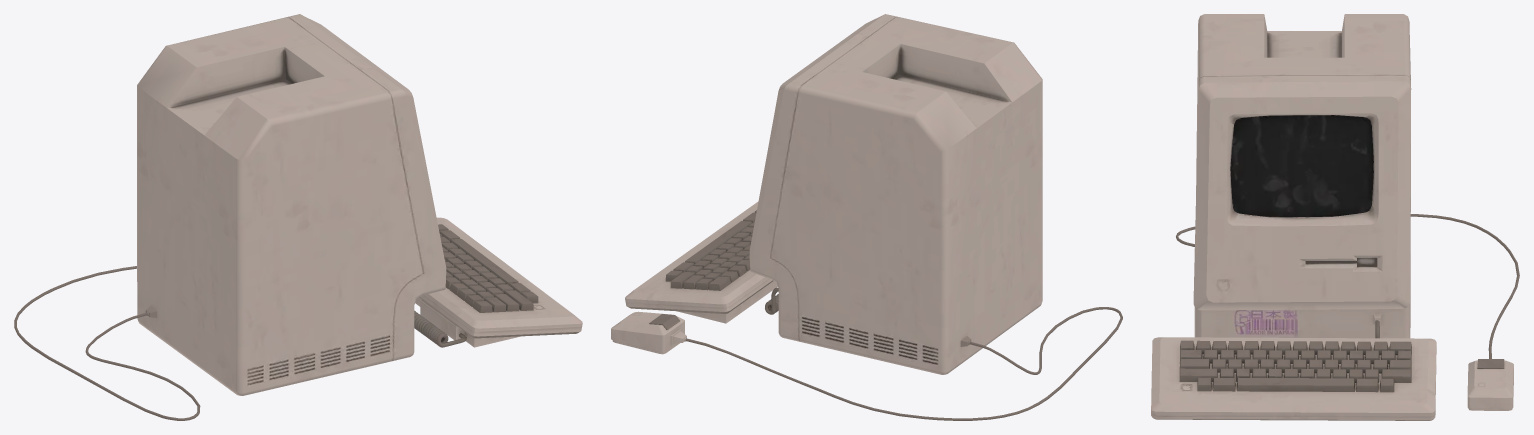
The model's file is macintosh-transformed.glb.
The picture shows the model from 3 angles, left to right: view 1: azimuth 30°, elevation 25°; view 2: azimuth 150°, elevation 25°; view 3: azimuth 270°, elevation 25°; orthographic projection. The views are drawn at different scales.
Parts seen in each view (by area): view 1: one_lp, too_lp, tre_lp; view 2: one_lp, too_lp, tre_lp; view 3: one_lp, too_lp, tre_lp.
Part boxes in pixels (bbox=[...]): one_lp: bbox=[137, 14, 582, 395]; too_lp: bbox=[415, 224, 538, 347]; tre_lp: bbox=[14, 266, 466, 420]; one_lp: bbox=[611, 14, 1042, 374]; too_lp: bbox=[612, 210, 777, 354]; tre_lp: bbox=[685, 287, 1122, 420]; one_lp: bbox=[1151, 14, 1513, 420]; too_lp: bbox=[1179, 340, 1512, 410]; tre_lp: bbox=[1176, 214, 1519, 358].
Bounding box in the file's own units: 44.51 × 26.75 × 33.03.
Materials: 1 (1 with a texture image).
